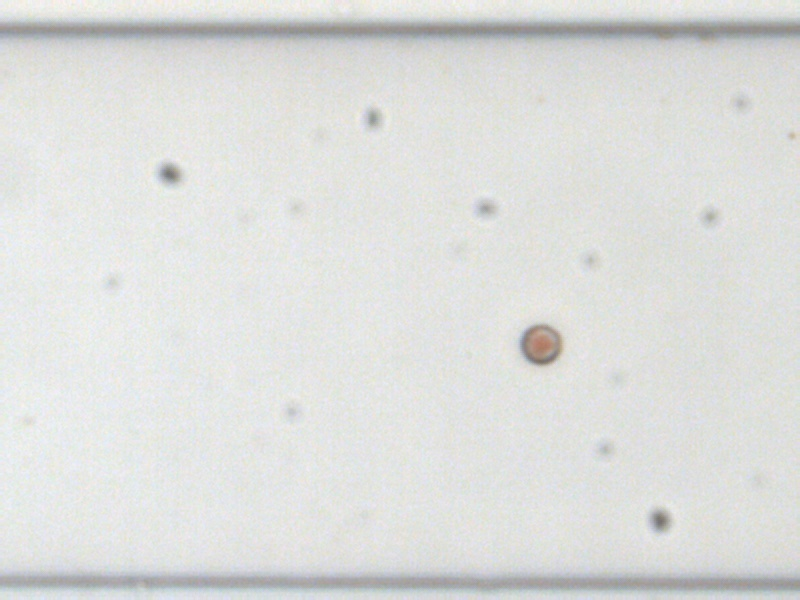Chlorella: (786, 129, 796, 138)
Porphyridium: (518, 324, 560, 364)
